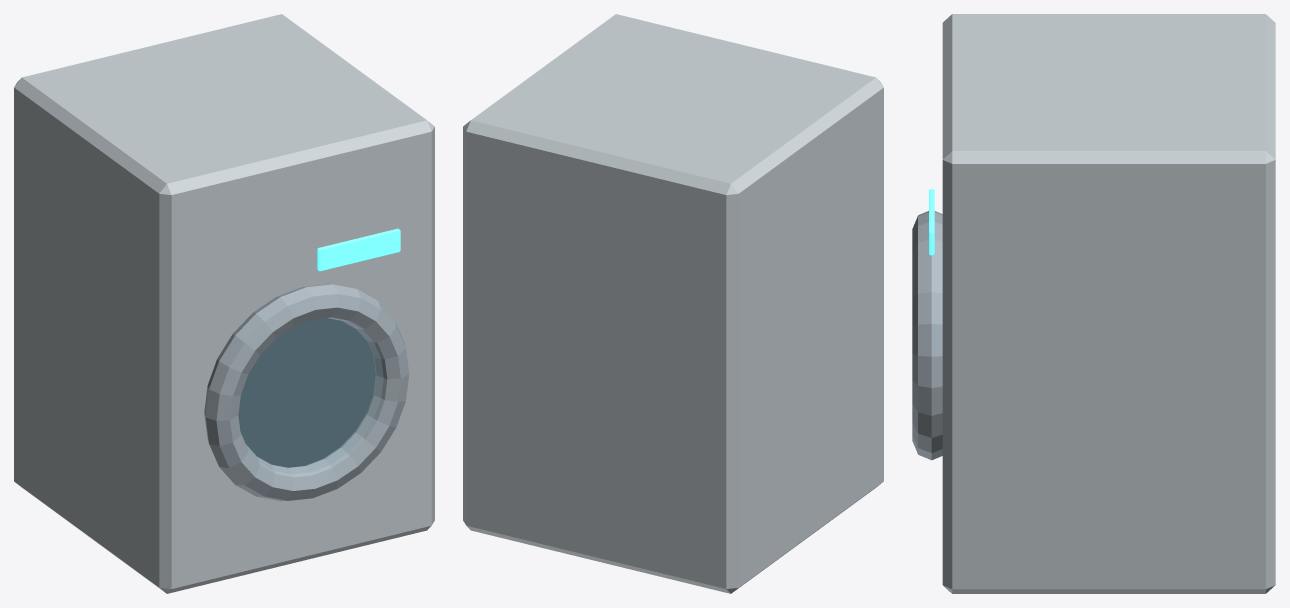
File: utility_01.glb
3 views of the same model, side by side, from view 1: azimuth 30°, elevation 25°; view 2: azimuth 150°, elevation 25°; view 3: azimuth 270°, elevation 25° (orthographic). The views are drawn at different scales.
Parts seen in each view (by area): view 1: Appliance, DrumRim, DrumGlass, DrumDark, Display; view 2: Appliance; view 3: Appliance, DrumRim.
Boxes of the visible parts, bbox=[...] form: Appliance: bbox=[14, 14, 434, 593]; DrumRim: bbox=[204, 284, 409, 501]; DrumGlass: bbox=[238, 318, 383, 473]; DrumDark: bbox=[238, 318, 375, 467]; Display: bbox=[317, 228, 400, 271]; Appliance: bbox=[463, 14, 883, 593]; Appliance: bbox=[942, 14, 1275, 593]; DrumRim: bbox=[912, 211, 942, 460].
Size of the model in its own units: 0.64 by 0.91 by 0.676.
